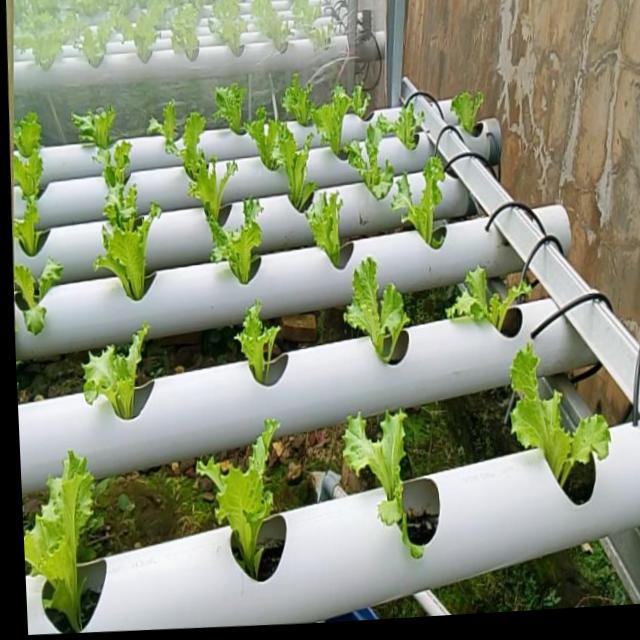Baby: (517, 339, 618, 483), (24, 449, 98, 631), (199, 416, 282, 577), (347, 406, 429, 555), (348, 252, 414, 358), (170, 132, 241, 224), (87, 321, 151, 417), (452, 258, 541, 323), (263, 118, 321, 210), (396, 151, 450, 244), (204, 75, 262, 160), (102, 215, 156, 299), (316, 80, 374, 154), (347, 114, 398, 198), (18, 257, 67, 334), (239, 297, 283, 380), (106, 159, 147, 248), (226, 197, 265, 282), (309, 188, 348, 265), (382, 94, 429, 147), (18, 120, 47, 202), (150, 100, 188, 155), (76, 106, 119, 149), (285, 71, 318, 125), (454, 85, 488, 126)
